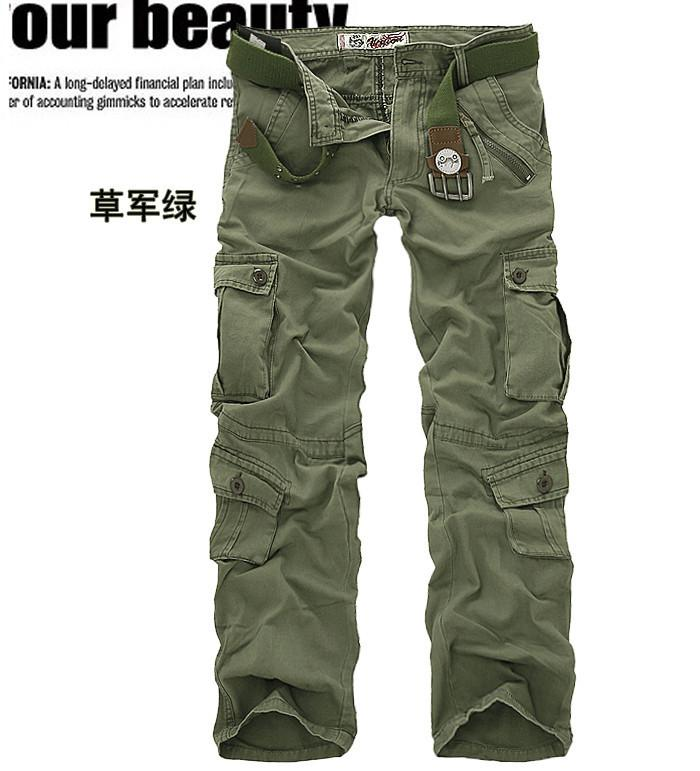pants: (213, 22, 570, 753)
